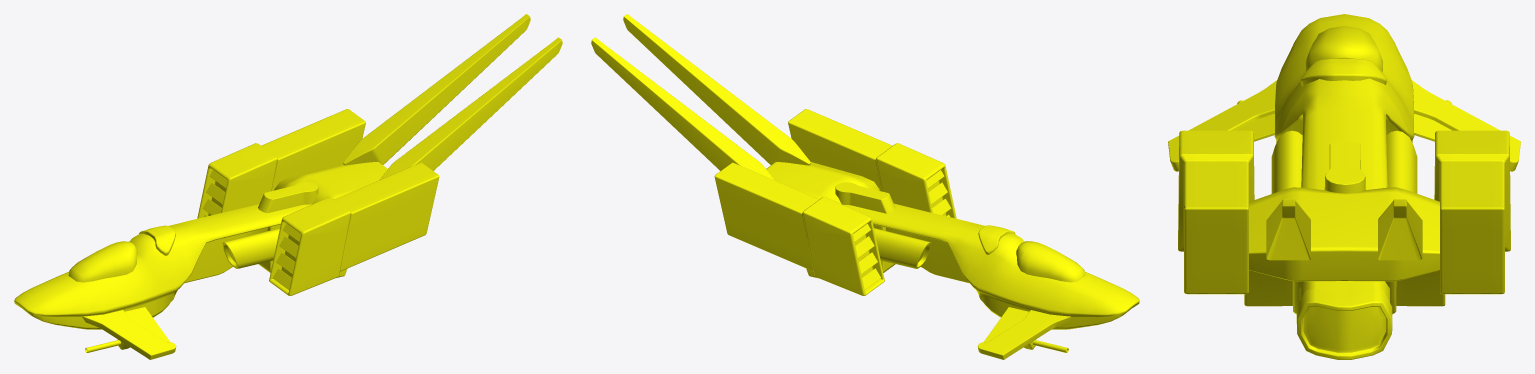
The model's file is corvette_03.gltf.
The picture shows the model from 3 angles, left to right: view 1: azimuth 30°, elevation 25°; view 2: azimuth 150°, elevation 25°; view 3: azimuth 270°, elevation 25°; orthographic projection. The views are drawn at different scales.
Visible parts, largest first — view 1: Corvette_03; view 2: Corvette_03; view 3: Corvette_03.
Part boxes in pixels (<box>): Corvette_03: <box>14,14,562,359</box>; Corvette_03: <box>591,14,1139,359</box>; Corvette_03: <box>1168,14,1520,359</box>.
Size of the model in its own units: 37.88 by 13.1 by 12.67.
1 material, 1 textured.
